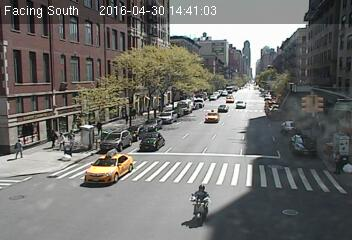neg: (180, 180, 216, 228), (207, 125, 230, 156), (145, 129, 165, 157), (27, 176, 47, 203), (291, 123, 311, 150), (273, 172, 293, 198), (87, 188, 105, 212), (244, 69, 258, 88), (288, 54, 302, 73), (96, 53, 110, 72), (26, 65, 39, 82), (150, 58, 162, 74), (190, 53, 202, 68), (62, 64, 73, 80), (252, 183, 261, 195)
pos: (9, 134, 28, 160), (43, 127, 61, 150), (119, 110, 132, 127), (54, 130, 66, 146), (63, 129, 75, 144), (129, 106, 140, 121), (92, 120, 103, 134)
